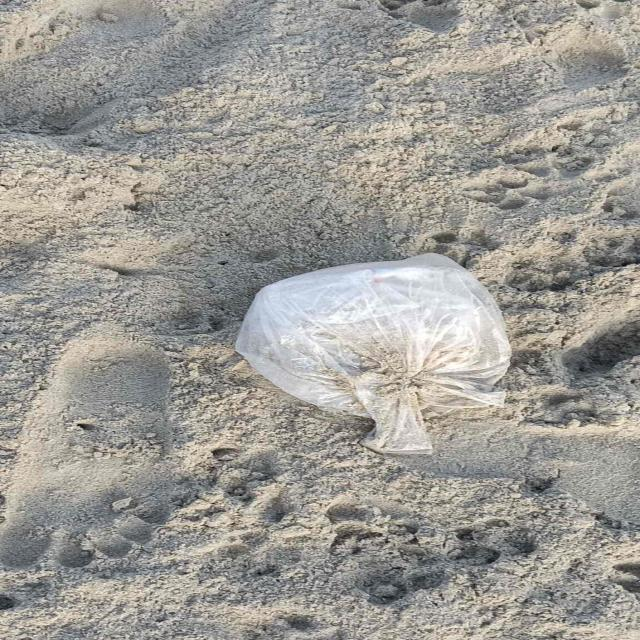plastic: (236, 265, 510, 455)
